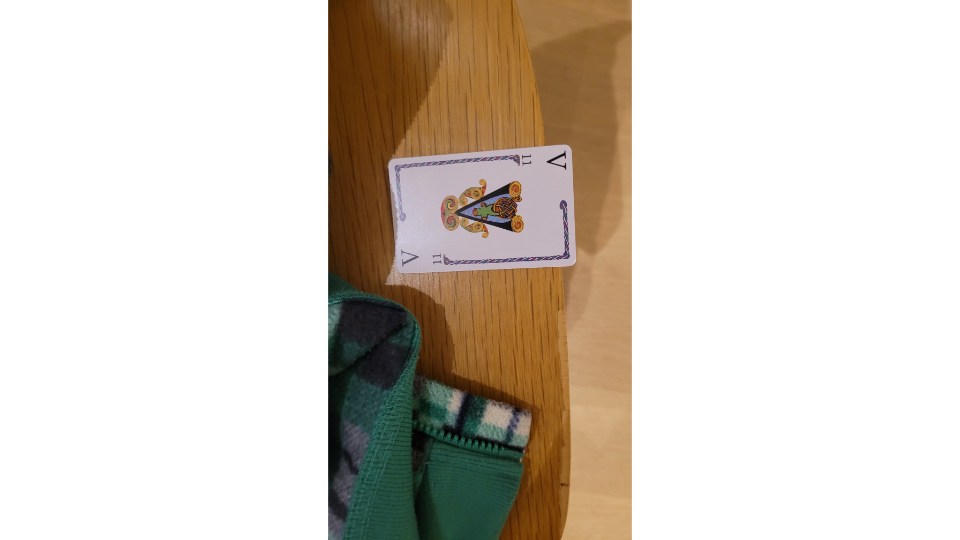V: (386, 143, 580, 275)
